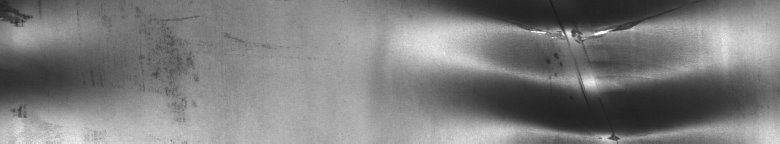ke: (471, 8, 704, 136)
